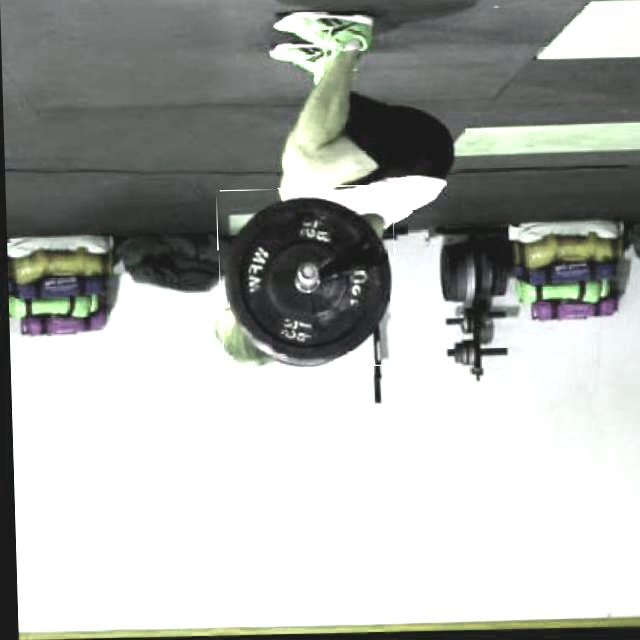barbell: (217, 187, 399, 372)
